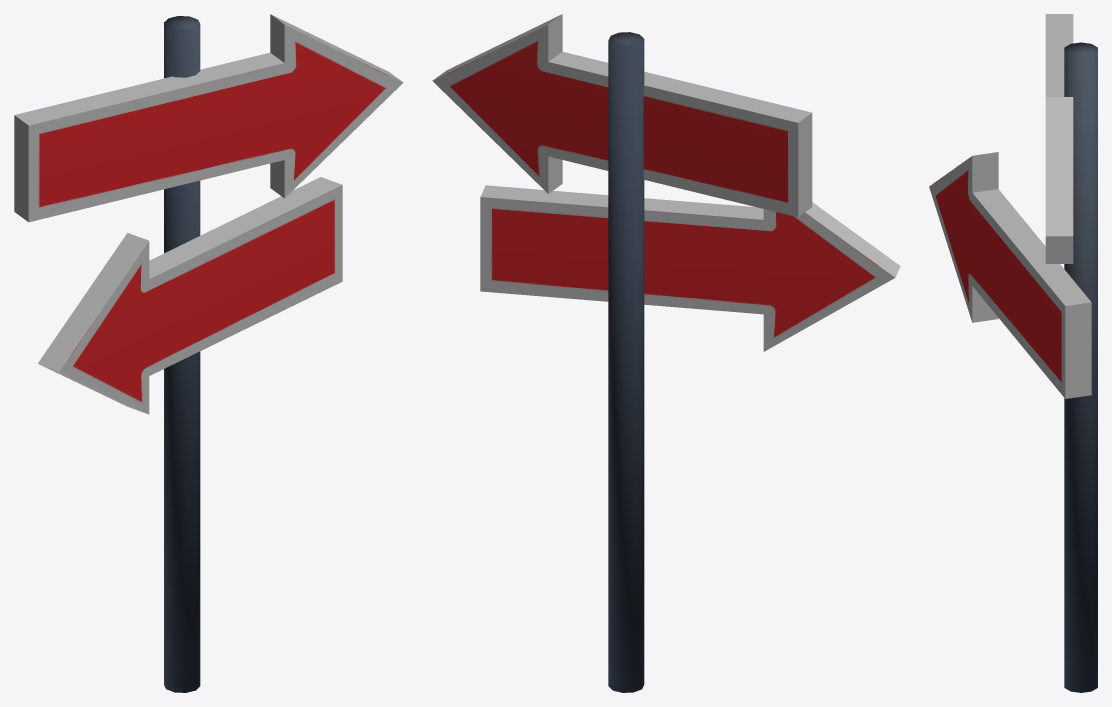
Rendered from sign_01.glb.
3 views of the same model, side by side, from view 1: azimuth 30°, elevation 25°; view 2: azimuth 150°, elevation 25°; view 3: azimuth 270°, elevation 25° (orthographic). The views are drawn at different scales.
Visible parts, largest first — view 1: Pole.001; view 2: Pole.001; view 3: Pole.001.
Boxes of the visible parts, x1,y1,x2,y2 form: Pole.001: (14,14,403,692); Pole.001: (432,14,900,692); Pole.001: (929,14,1097,692).
Size of the model in its own units: 2.48 by 3.79 by 0.9136.
Materials: 1 (1 with a texture image).
